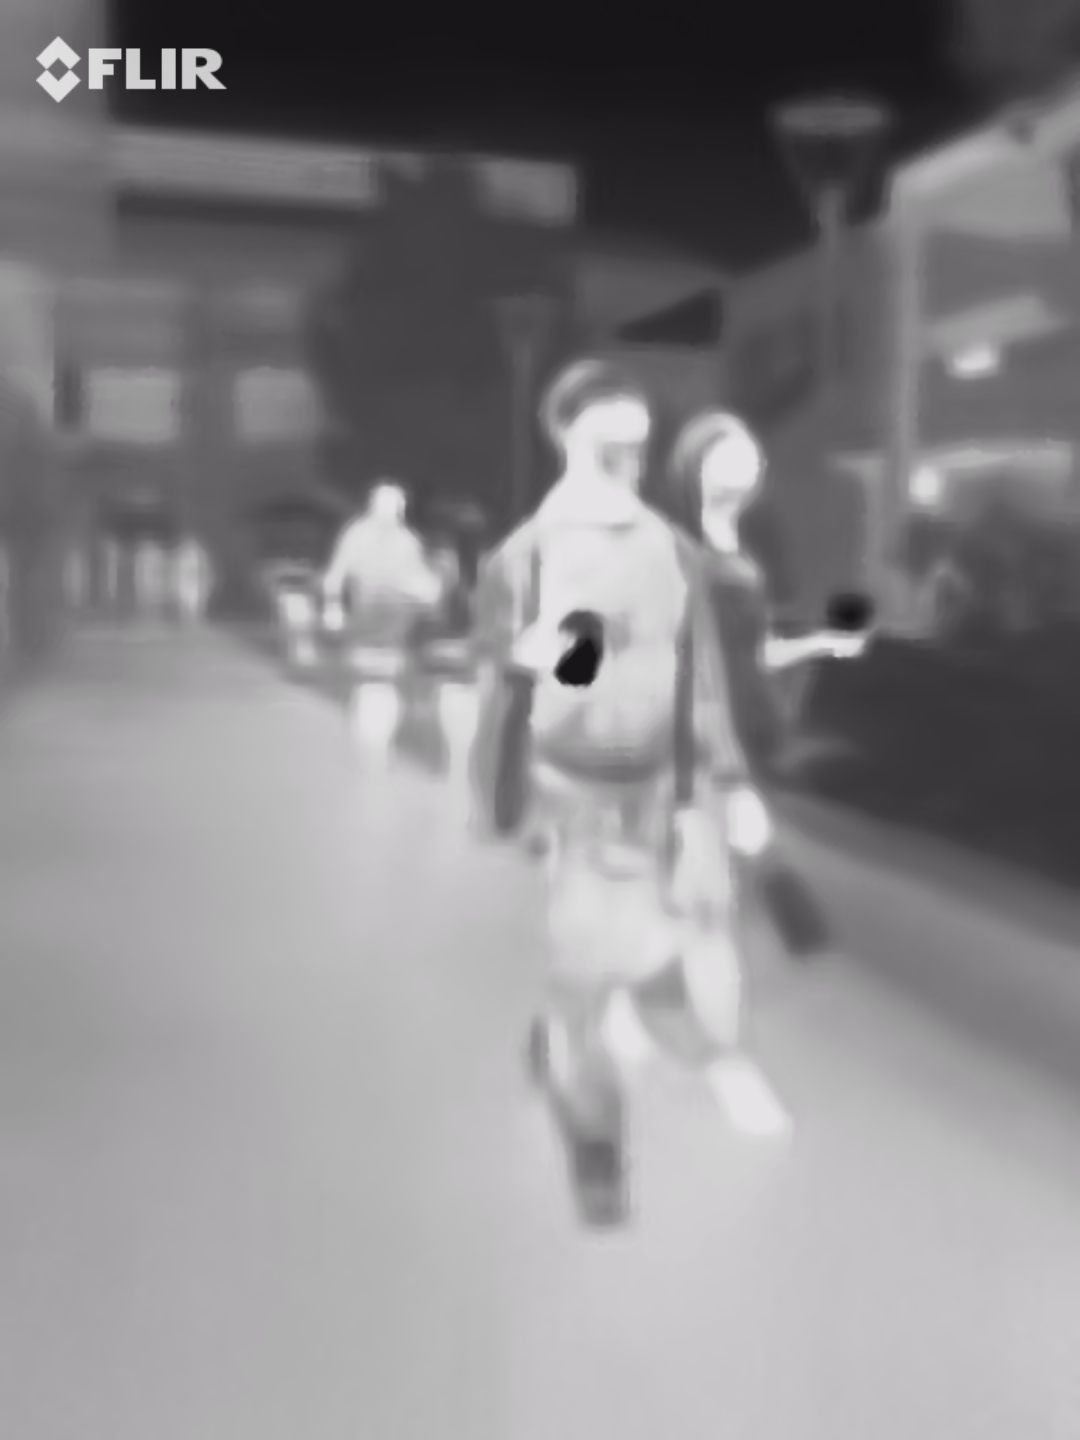head: (539, 360, 662, 497)
